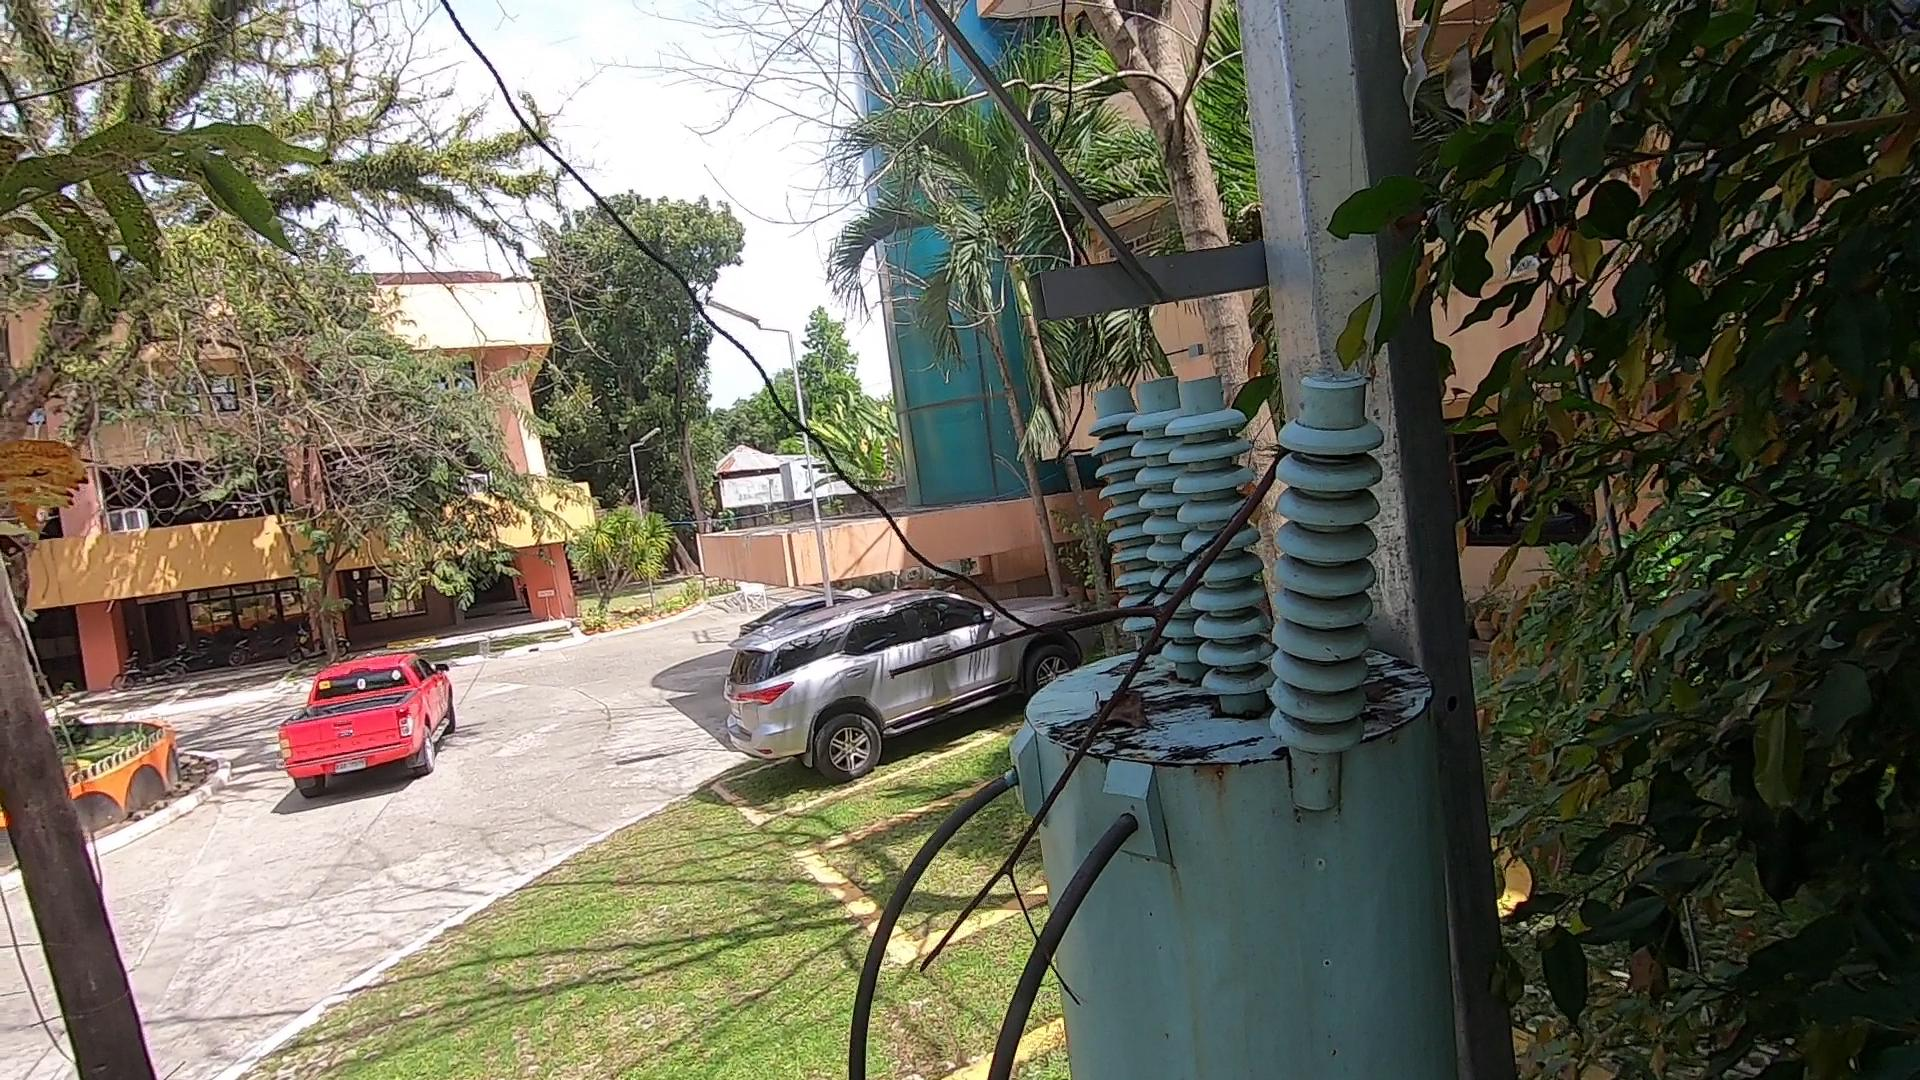leaf: (1067, 671, 1174, 752)
tree branch: (891, 448, 1346, 1005)
